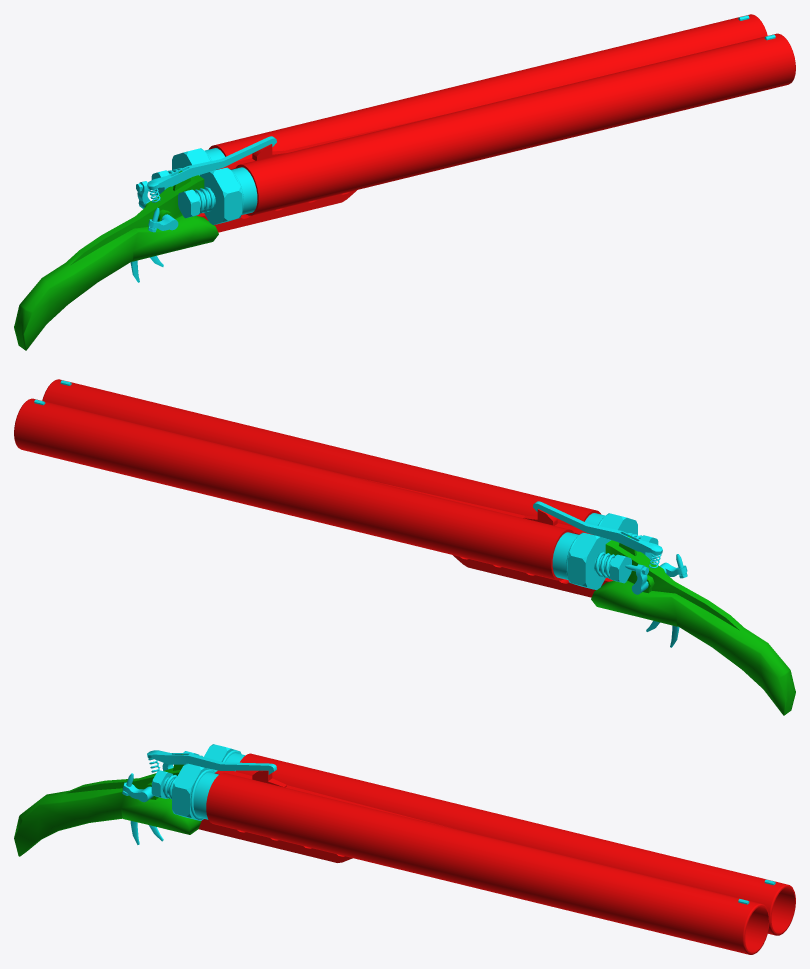
File: doubleburrelfbx.fbx
3 views of the same model, one above another, from view 1: azimuth 30°, elevation 25°; view 2: azimuth 150°, elevation 25°; view 3: azimuth 330°, elevation 25° (orthographic).
Visible parts, largest first — view 1: Metall, Priklad001, Furniture; view 2: Metall, Priklad001, Furniture; view 3: Metall, Priklad001, Furniture.
Boxes of the visible parts, x1,y1,x2,y2 form: Metall: (196,14,795,232); Priklad001: (14,170,218,350); Furniture: (130,15,775,282); Metall: (14,379,613,597); Priklad001: (591,535,795,715); Furniture: (34,380,687,647); Metall: (198,753,795,954); Priklad001: (14,754,201,856); Furniture: (122,744,775,904).
Size of the model in its own units: 441 by 83.97 by 53.43.
